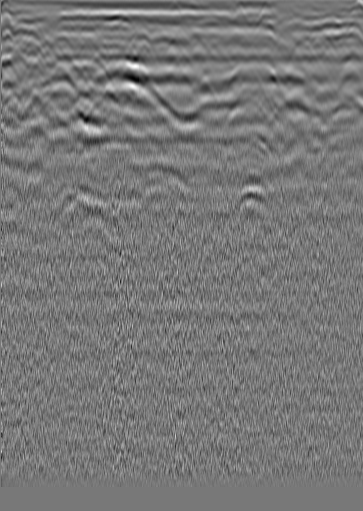가스: (231, 180, 269, 214)
상수: (0, 15, 20, 35)
우수: (106, 16, 126, 36)
